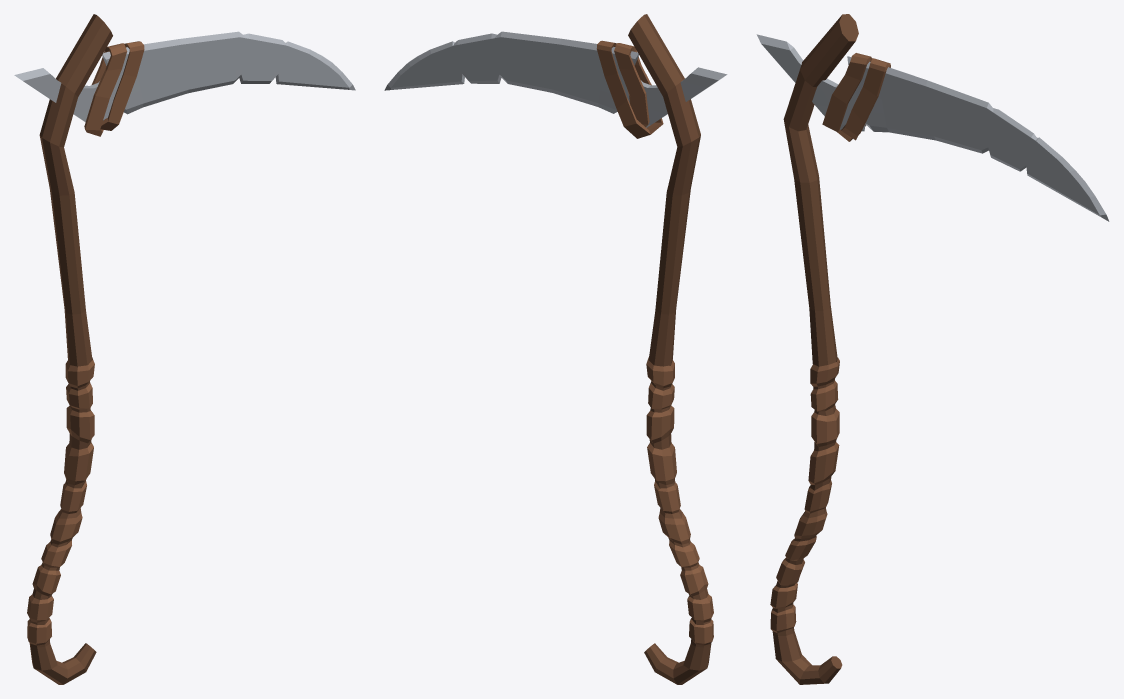
File: scythe.glb
3 renders of one model, left to right at view 1: azimuth 30°, elevation 25°; view 2: azimuth 150°, elevation 25°; view 3: azimuth 330°, elevation 25°, orthographic. The views are drawn at different scales.
Visible parts, largest first — view 1: Scythe; view 2: Scythe; view 3: Scythe.
Part boxes in pixels (x1,y1,x2,y2): Scythe: (14, 14, 355, 684); Scythe: (384, 14, 727, 684); Scythe: (756, 14, 1109, 684).
Size of the model in its own units: 3.03 by 5.58 by 0.2771.
